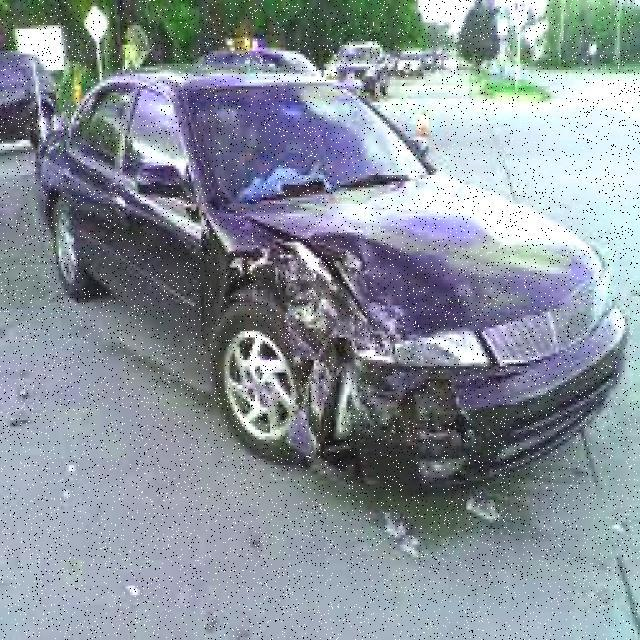car damage: (202, 214, 478, 488)
